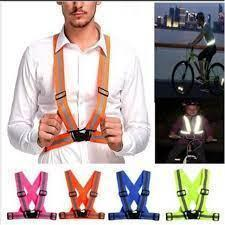Vest: (179, 114, 206, 137)
